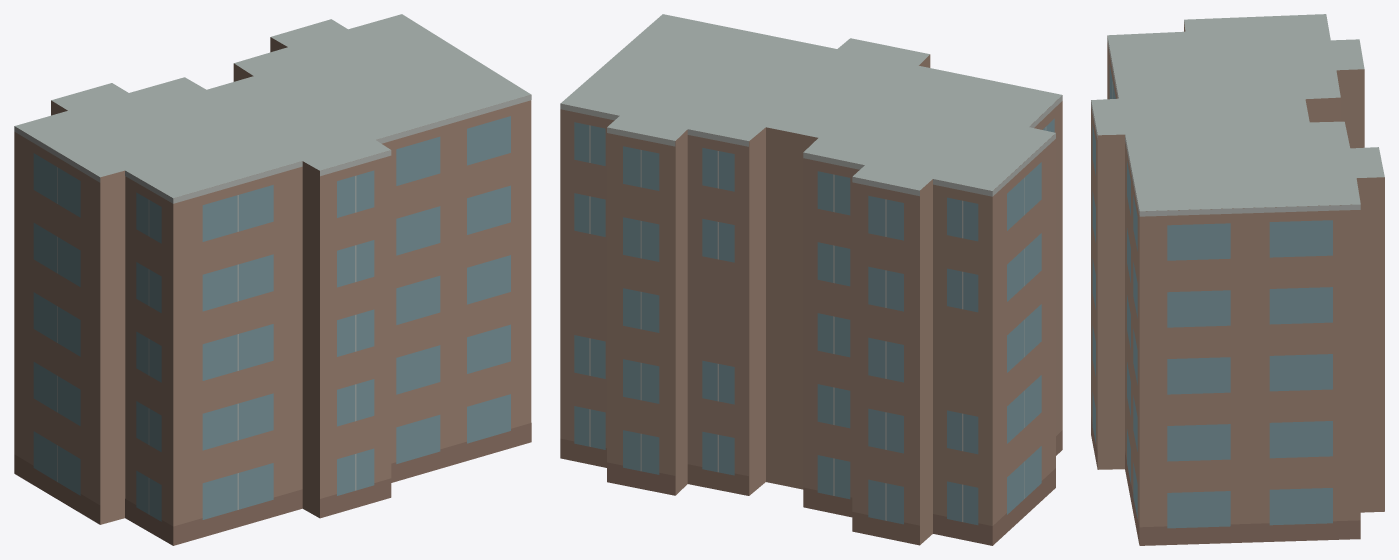
Rendered from survey-upis-32750103.glb.
3 renders of one model, left to right at view 1: azimuth 30°, elevation 25°; view 2: azimuth 150°, elevation 25°; view 3: azimuth 270°, elevation 25°, orthographic. The views are drawn at different scales.
Visible parts, largest first — view 1: survey-upis-32750103.tmp; view 2: survey-upis-32750103.tmp; view 3: survey-upis-32750103.tmp.
Boxes of the visible parts, x1,y1,x2,y2 form: survey-upis-32750103.tmp: [14, 14, 531, 545]; survey-upis-32750103.tmp: [560, 14, 1062, 545]; survey-upis-32750103.tmp: [1091, 14, 1384, 545].
Size of the model in its own units: 19.3 by 15.25 by 12.14.
